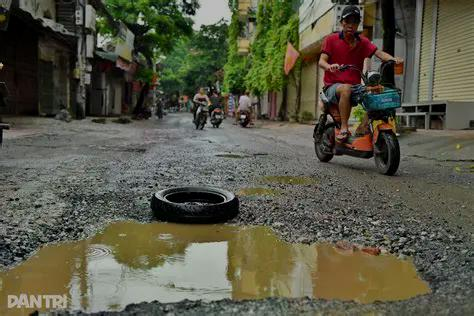ROAD_FLOODING: (1, 190, 462, 316)
